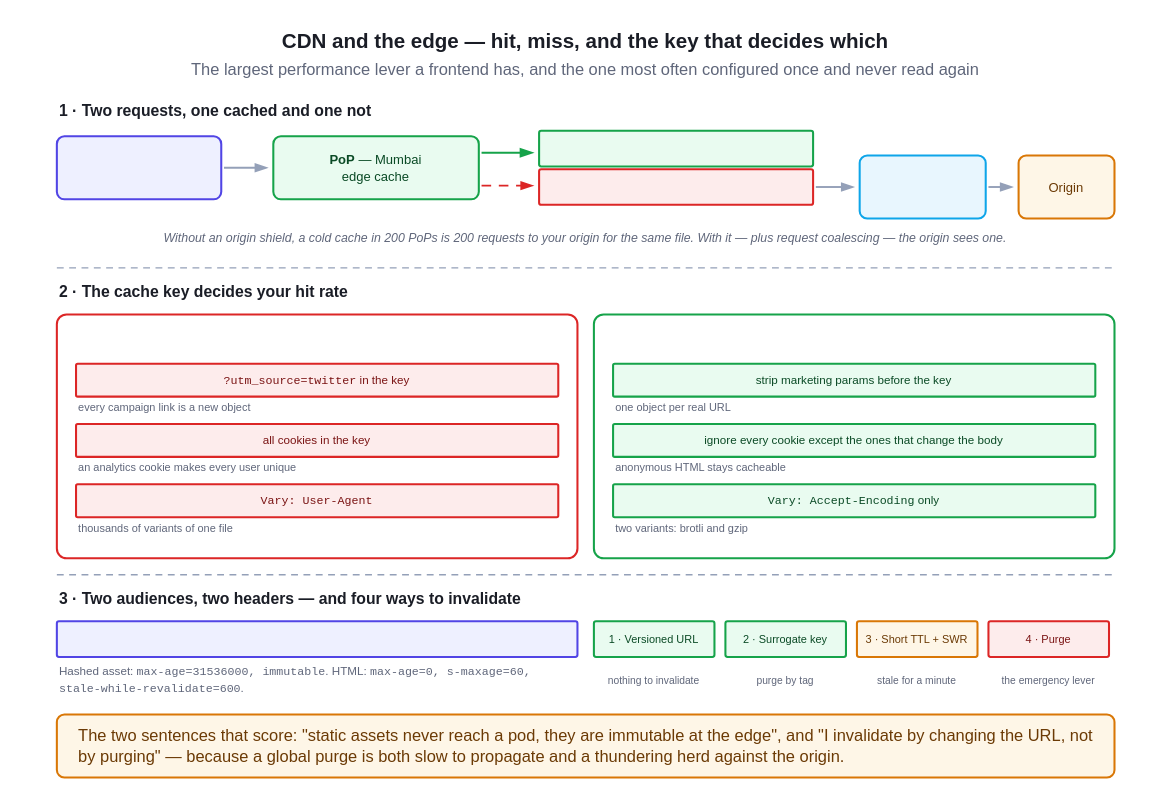
The diagram is 1170 pixels wide and 801 high, and some of its shapes have lost their labels. Each missing label, with the box of its shape:
A key that destroys the hit rate: (55, 313, 578, 559)
A key that works: (592, 313, 1115, 559)
Browser in Mumbai: (55, 135, 222, 200)
HIT — 8 ms, done: (537, 129, 814, 167)
max-age → the browser · s-maxage → the CDN: (55, 620, 578, 657)
MISS — go upstream: (537, 168, 814, 205)
Shield PoP: (858, 154, 986, 219)
